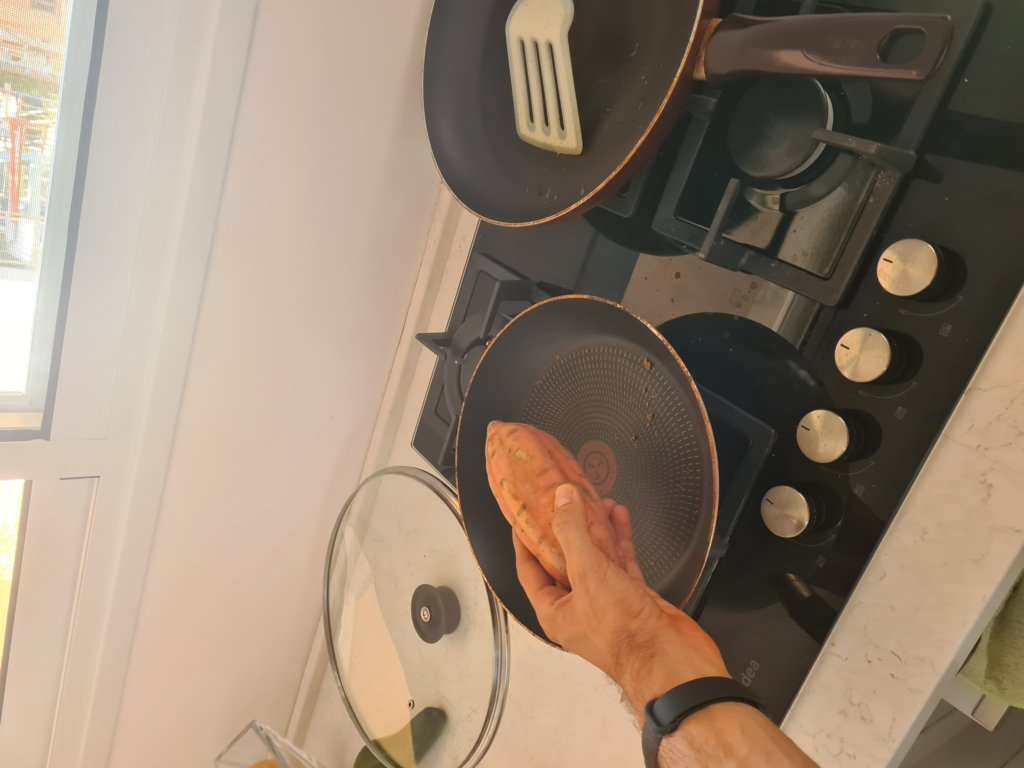Sweet Potatow: (483, 414, 632, 583)
